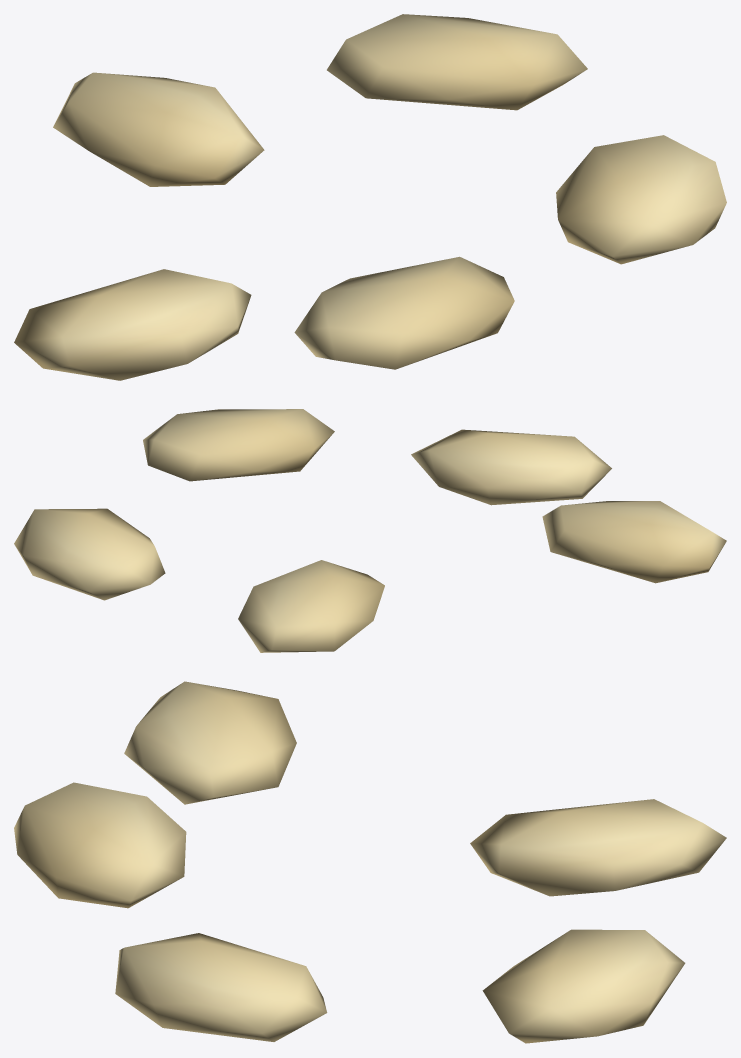
File: NP_Cucumber_Seed_LOD1.fbx
The picture shows the model from 3 angles, top to bottom: view 1: azimuth 30°, elevation 25°; view 2: azimuth 150°, elevation 25°; view 3: azimuth 270°, elevation 25°; orthographic projection. The views are drawn at different scales.
Visible parts, largest first — view 1: NP_Cucumber_Seed; view 2: NP_Cucumber_Seed; view 3: NP_Cucumber_Seed.
Part boxes in pixels (x1,y1,x2,y2): NP_Cucumber_Seed: (14,14,726,380); NP_Cucumber_Seed: (14,409,726,652); NP_Cucumber_Seed: (14,681,726,1043).
Size of the model in its own units: 14.02 by 1.19 by 12.37.
